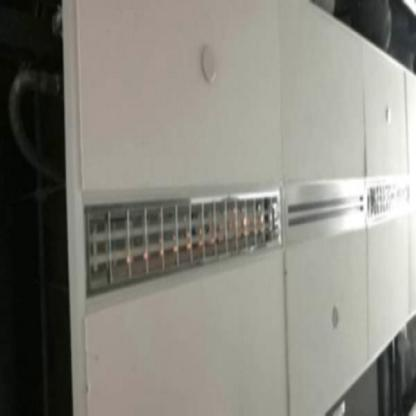light_off: (80, 180, 280, 307), (362, 173, 412, 226)
